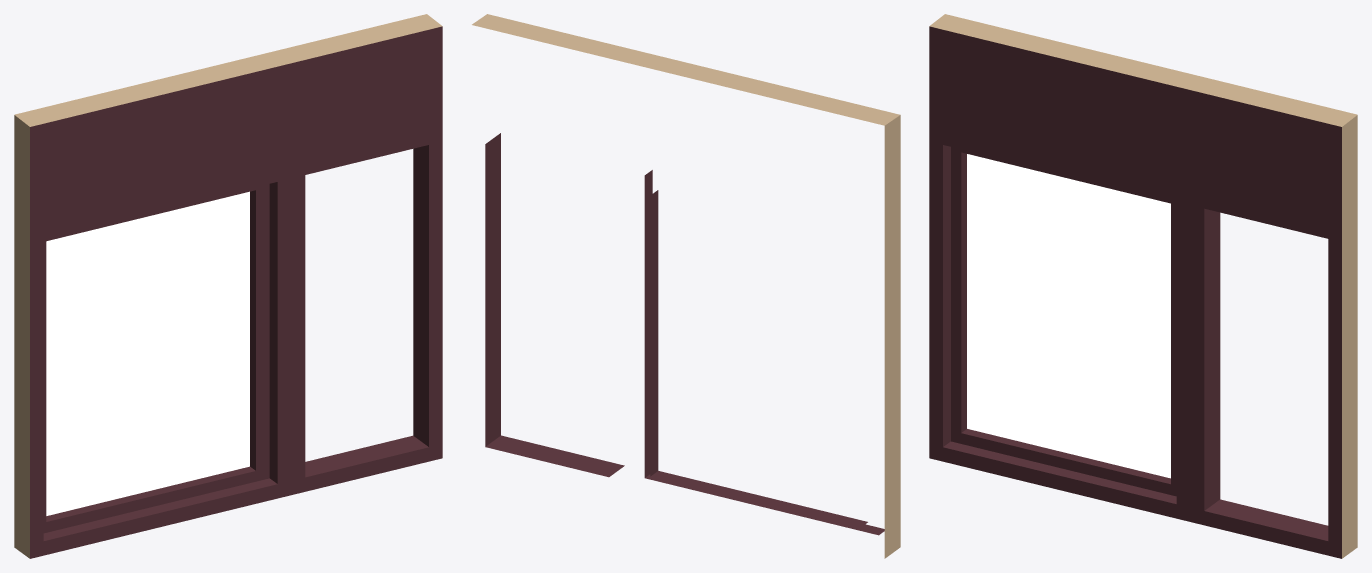
File: buildings-house-wall-window-portal-door-3x3m.glb
3 views of the same model, side by side, from view 1: azimuth 30°, elevation 25°; view 2: azimuth 150°, elevation 25°; view 3: azimuth 330°, elevation 25° (orthographic).
Parts seen in each view (by area): view 1: house-wall-window-portal-door-3x3m; view 2: house-wall-window-portal-door-3x3m; view 3: house-wall-window-portal-door-3x3m.
Part boxes in pixels (bbox=[...]): house-wall-window-portal-door-3x3m: bbox=[14, 14, 442, 558]; house-wall-window-portal-door-3x3m: bbox=[472, 14, 900, 558]; house-wall-window-portal-door-3x3m: bbox=[929, 14, 1357, 558].
Size of the model in its own units: 3 by 3.01 by 0.2.
